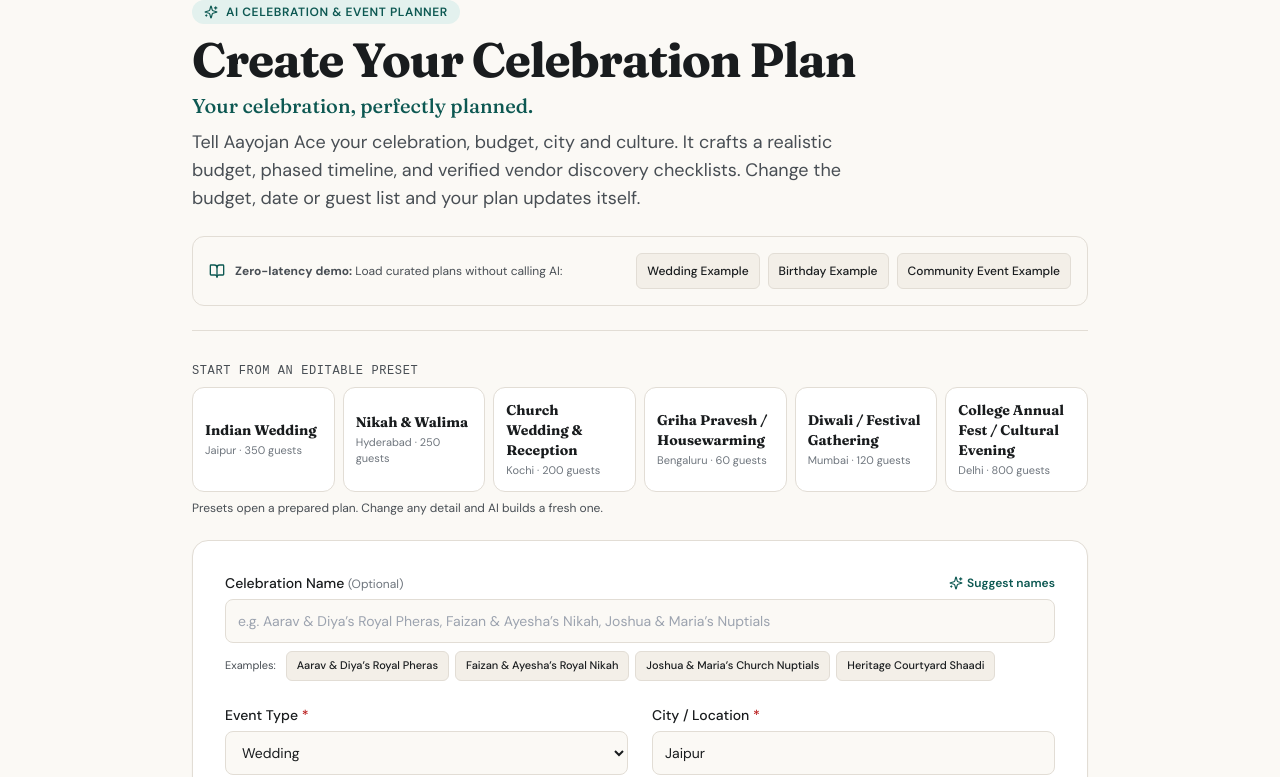
Test: IntakeForm Component › populates fields when a preset button is clicked
Click the button "Griha Pravesh / Housewarming Bengaluru · 60 guests": (715, 439) [644,387,787,492]
(page scrolled)
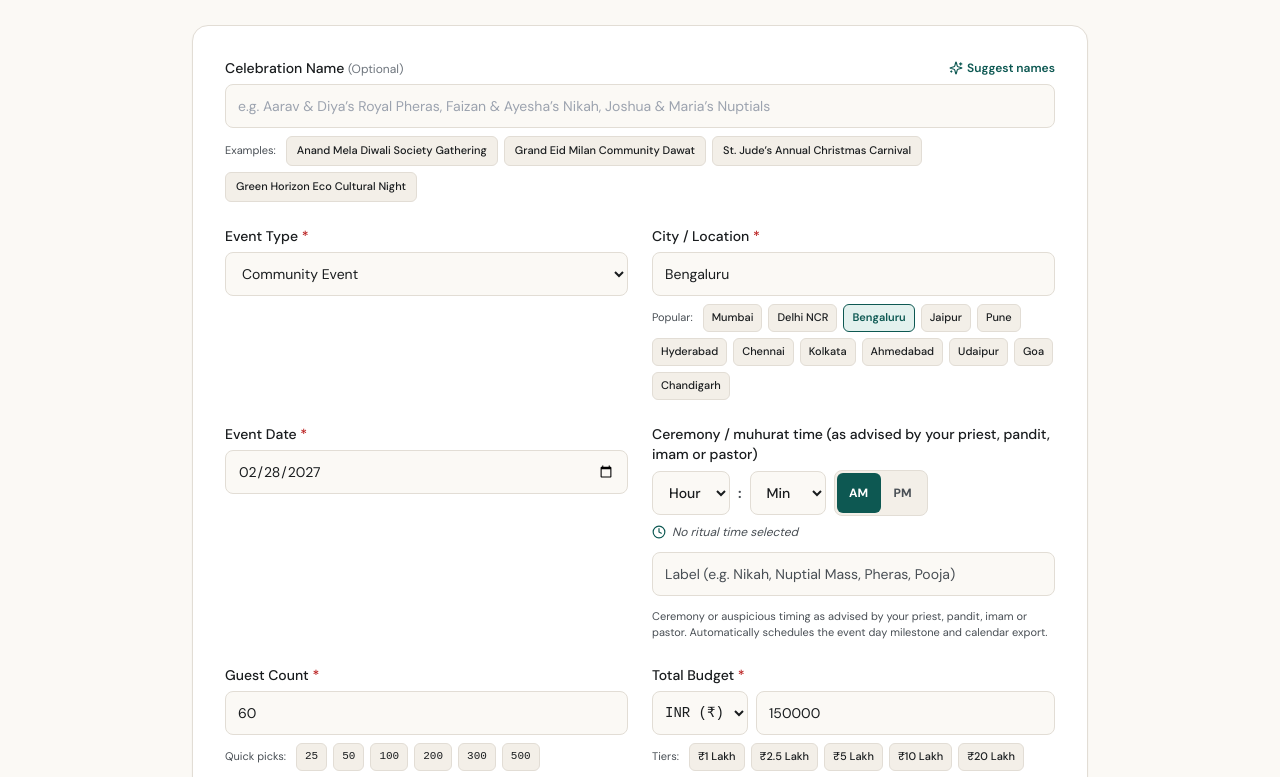
Result: the field labelled "City / Location *" holds "Bengaluru" at [652,252,1055,296]
Result: the number field labelled "Guest Count *" holds "60" at [225,690,628,734]
